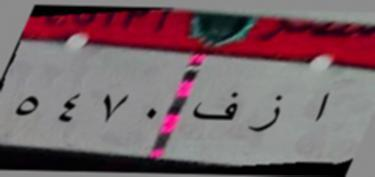0: (142, 97, 162, 126)
4: (54, 88, 86, 134)
5: (10, 90, 42, 126)
7: (99, 80, 128, 130)
alif: (307, 85, 336, 134)
faa: (192, 84, 238, 130)
zay: (244, 86, 296, 138)
